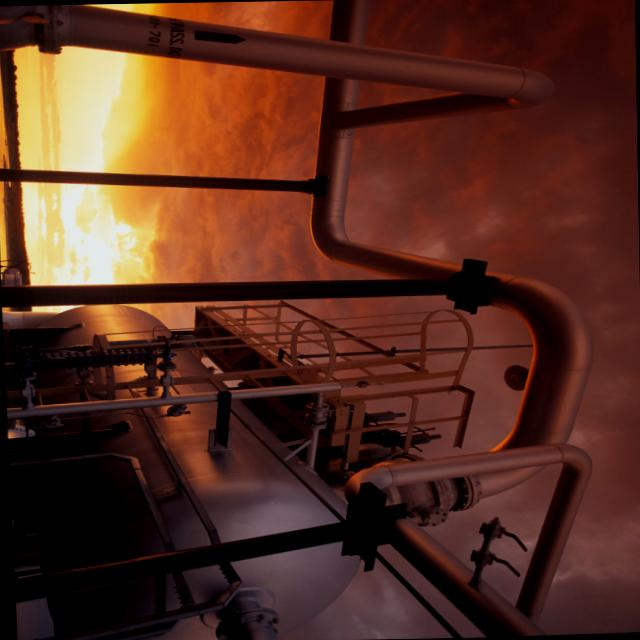gas: (310, 0, 588, 445), (60, 4, 555, 107), (359, 445, 592, 627), (381, 504, 543, 637), (335, 88, 527, 130)
